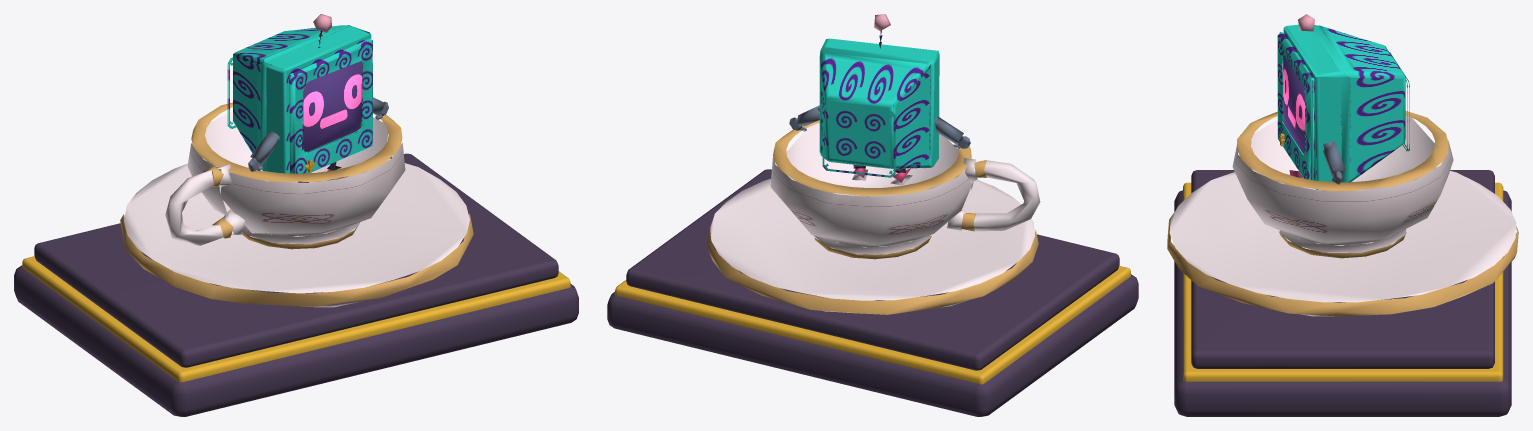
Rendered from kart.paint.spiral.lod1.glb.
The picture shows the model from 3 angles, left to right: view 1: azimuth 30°, elevation 25°; view 2: azimuth 150°, elevation 25°; view 3: azimuth 270°, elevation 25°; orthographic projection. The views are drawn at different scales.
Parts seen in each view (by area): view 1: emi_teacup_mesh, stand_display_top, stand_display_base, stand_brass_band; view 2: emi_teacup_mesh, stand_display_top, stand_display_base, stand_brass_band; view 3: emi_teacup_mesh, stand_display_top, stand_display_base, stand_brass_band.
Boxes of the visible parts, bbox=[...] form: emi_teacup_mesh: bbox=[120, 14, 473, 307]; stand_display_top: bbox=[34, 153, 558, 367]; stand_display_base: bbox=[14, 265, 578, 416]; stand_brass_band: bbox=[22, 256, 570, 382]; emi_teacup_mesh: bbox=[706, 14, 1040, 314]; stand_display_top: bbox=[626, 169, 1119, 370]; stand_display_base: bbox=[607, 274, 1138, 416]; stand_brass_band: bbox=[615, 266, 1130, 384]; emi_teacup_mesh: bbox=[1167, 14, 1518, 316]; stand_display_top: bbox=[1191, 170, 1494, 368]; stand_display_base: bbox=[1174, 190, 1511, 416]; stand_brass_band: bbox=[1183, 182, 1503, 381].
Size of the model in its own units: 0.64 by 0.4654 by 0.4763.
4 materials, 3 textured.
